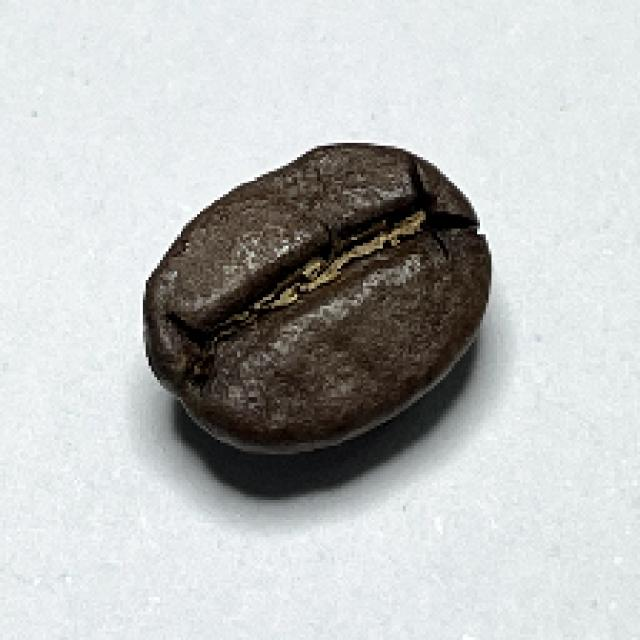bean: (140, 142, 493, 456)
